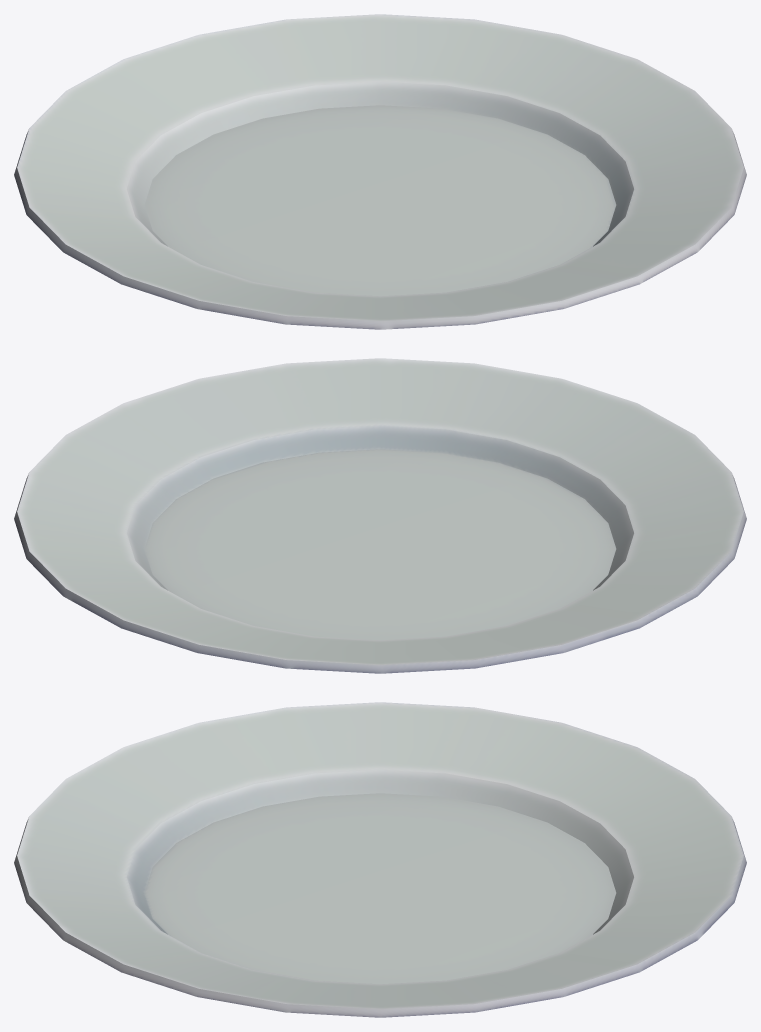
File: Plate2.obj
3 renders of one model, top to bottom at view 1: azimuth 30°, elevation 25°; view 2: azimuth 150°, elevation 25°; view 3: azimuth 270°, elevation 25°, orthographic.
Visible parts, largest first — view 1: Plate; view 2: Plate; view 3: Plate.
Boxes of the visible parts, x1,y1,x2,y2 form: Plate: (14,14,746,329); Plate: (14,358,746,673); Plate: (14,702,746,1017).
Size of the model in its own units: 1.5 by 0.1094 by 1.5.
1 material, 1 textured.
